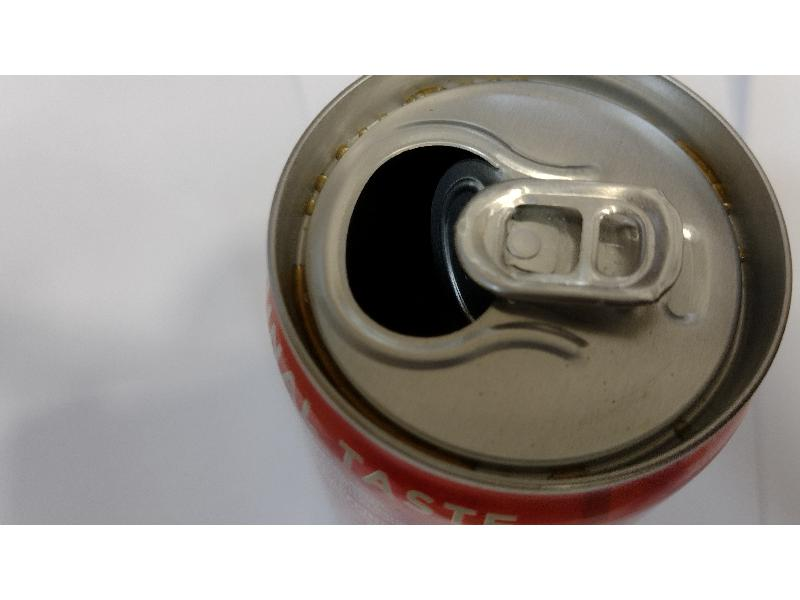can: (270, 76, 800, 528)
